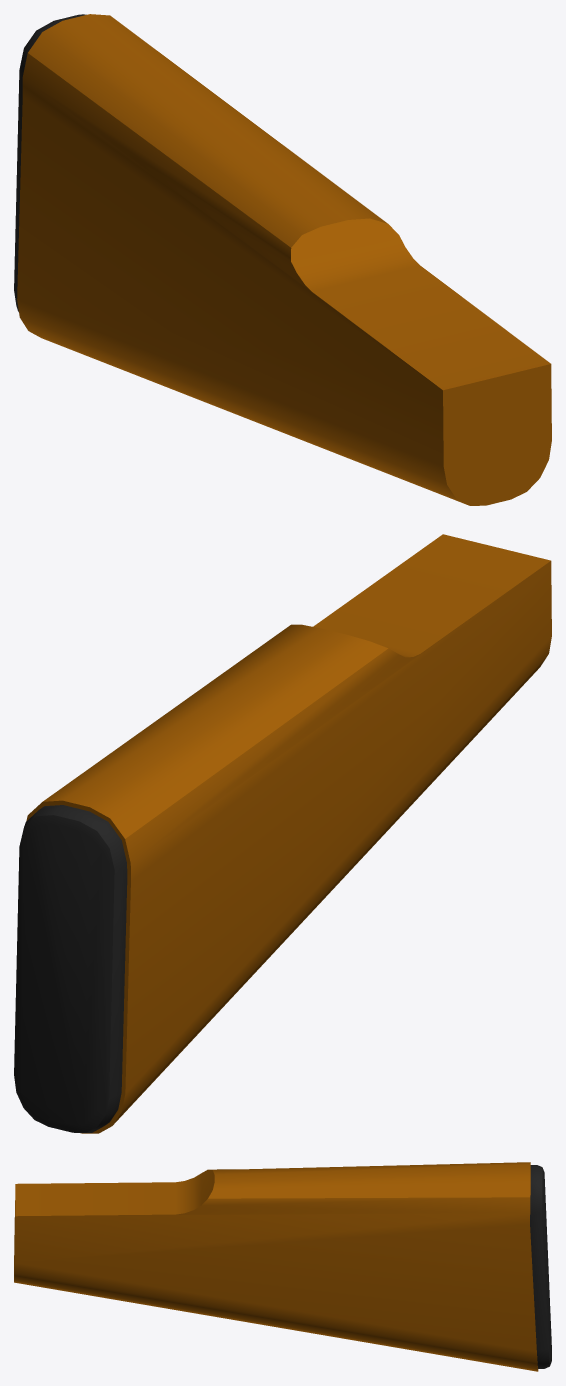
File: stock_2.fbx
3 renders of one model, top to bottom at view 1: azimuth 30°, elevation 25°; view 2: azimuth 150°, elevation 25°; view 3: azimuth 270°, elevation 25°, orthographic. The views are drawn at different scales.
Visible parts, largest first — view 1: stock_2; view 2: stock_2; view 3: stock_2.
Part boxes in pixels (x1=…): stock_2: x1=14, y1=14, x2=551, y2=505; stock_2: x1=14, y1=534, x2=551, y2=1133; stock_2: x1=14, y1=1162, x2=551, y2=1371.
Size of the model in its own units: 171 by 487 by 1203.
